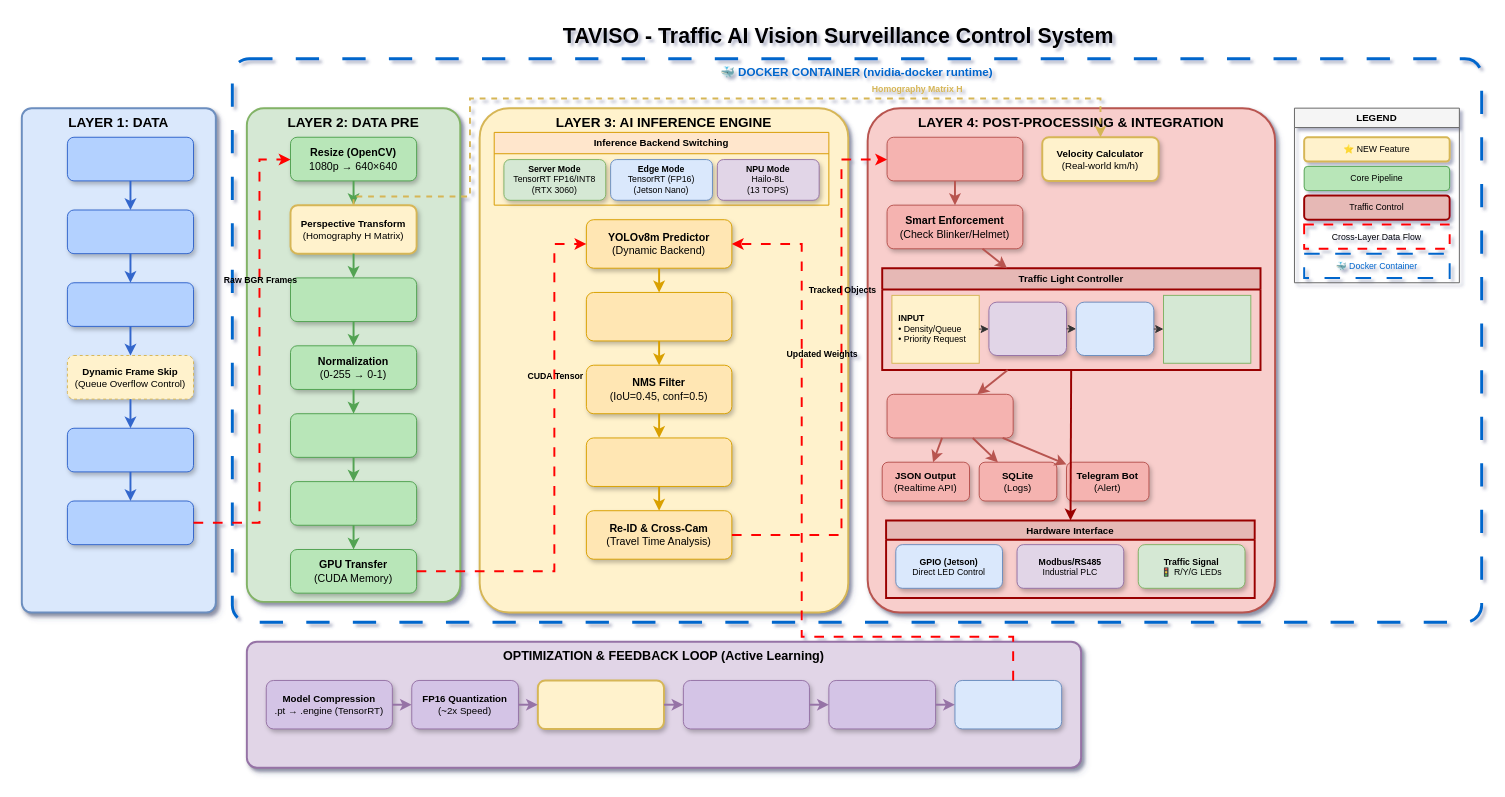
Image size: 1505x797. Some labels were removed from this diagram. The shapes that lost their labels are listed below. From the top down, each one's centre as x and y in pixels, then its label:
At point 131,160: "3 Public IP Cams (Danang)".
At point 955,160: "Business Logic (Counting/Violation)".
At point 131,232: "RTSP Stream (h264/h265)".
At point 131,305: "Frame Buffer (Queue 30 frames)".
At point 354,300: "Color Conversion BGR → RGB".
At point 660,318: "Detection Output [class, conf, x1,y1,x2,y2]".
At point 1028,329: "Fuzzy Logic Mamdani Rules".
At point 1115,329: "RL Agent DQN/PPO".
At point 1207,328: "OUTPUT • Green Time • Phase Switch • Priority".
At point 354,436: "Albumentations (TTA Augmentation)".
At point 950,417: "FastAPI Wrapper (REST/WebSocket)".
At point 131,451: "GStreamer / NVDEC (Jetson HW Accel)".
At point 660,463: "BoT-SORT / ByteTrack (Object ID Persistence)".
At point 131,523: "Stream Manager (3 Channels)".
At point 354,504: "Tensor Conversion (NCHW Format)".
At point 601,705: "Edge Case Logger conf < 0.5 | Occlusion".
At point 747,706: "Hard Example Mining (Manual Labeling)".
At point 882,706: "Active Learning (Re-train Loop)".
At point 1008,706: "Deploy Update (Docker Pull)".
